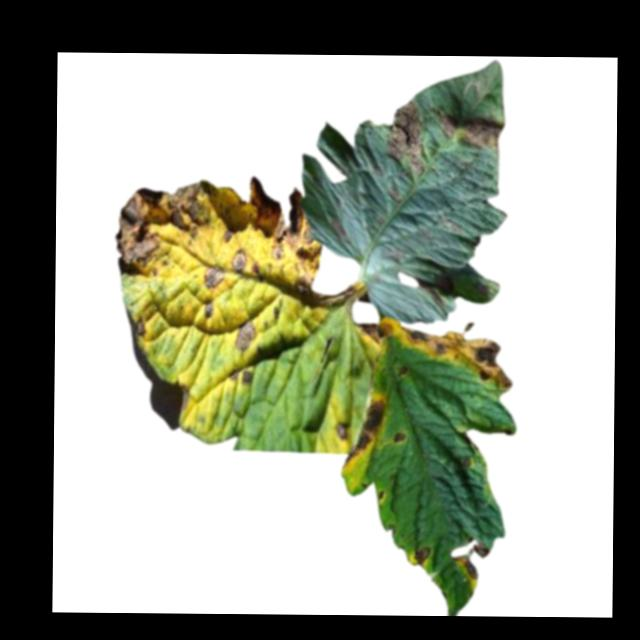Early_blight: (114, 178, 219, 279), (399, 323, 514, 394), (244, 173, 321, 275), (430, 108, 506, 152), (342, 396, 386, 468), (387, 99, 427, 176), (291, 278, 356, 310), (455, 540, 488, 582), (358, 319, 392, 350), (231, 320, 258, 353), (202, 264, 225, 288), (410, 543, 433, 566), (334, 419, 351, 441), (231, 249, 246, 272), (392, 430, 407, 449), (202, 298, 212, 323), (134, 317, 147, 334), (240, 369, 252, 386), (377, 489, 386, 505)
